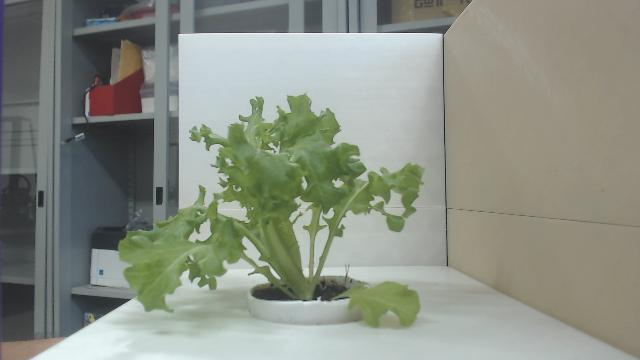Harvest Stage: (117, 92, 427, 329)
